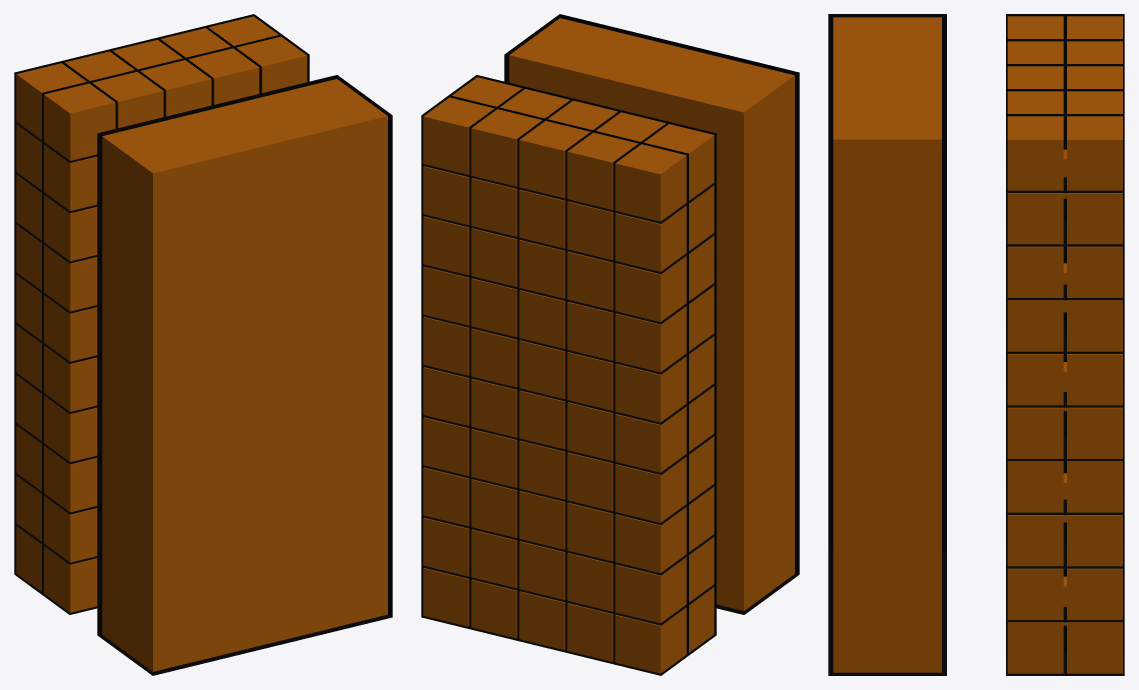
The model's file is Door.fbx.
3 renders of one model, left to right at view 1: azimuth 30°, elevation 25°; view 2: azimuth 150°, elevation 25°; view 3: azimuth 270°, elevation 25°, orthographic. The views are drawn at different scales.
Parts seen in each view (by area): view 1: polySurface311, polySurface312, polySurface273, polySurface93, polySurface201, polySurface40, polySurface68, polySurface88, polySurface132, polySurface268, polySurface176, polySurface181 (+19 smaller); view 2: polySurface311, polySurface283, polySurface312, polySurface57, polySurface77, polySurface153, polySurface234, polySurface192, polySurface212, polySurface48, polySurface104, polySurface257 (+55 smaller); view 3: polySurface311, polySurface312, polySurface289, polySurface278, polySurface31, polySurface109, polySurface254, polySurface52, polySurface72, polySurface144, polySurface172, polySurface197 (+20 smaller).
Boxes of the visible parts, x1=… form: polySurface311: x1=102, y1=79, x2=387, y2=671; polySurface312: x1=97, y1=75, x2=392, y2=675; polySurface273: x1=44, y1=83, x2=115, y2=160; polySurface93: x1=44, y1=396, x2=97, y2=461; polySurface201: x1=44, y1=245, x2=97, y2=311; polySurface40: x1=44, y1=546, x2=97, y2=612; polySurface68: x1=44, y1=496, x2=97, y2=562; polySurface88: x1=44, y1=446, x2=97, y2=512; polySurface132: x1=44, y1=345, x2=97, y2=411; polySurface268: x1=44, y1=295, x2=97, y2=361; polySurface176: x1=44, y1=145, x2=97, y2=210; polySurface181: x1=44, y1=195, x2=97, y2=261; polySurface311: x1=509, y1=18, x2=794, y2=610; polySurface283: x1=615, y1=144, x2=686, y2=221; polySurface312: x1=504, y1=14, x2=799, y2=614; polySurface57: x1=615, y1=557, x2=686, y2=623; polySurface77: x1=615, y1=507, x2=686, y2=572; polySurface153: x1=615, y1=406, x2=686, y2=472; polySurface234: x1=615, y1=206, x2=686, y2=271; polySurface192: x1=615, y1=256, x2=686, y2=321; polySurface212: x1=615, y1=306, x2=686, y2=372; polySurface48: x1=615, y1=607, x2=686, y2=673; polySurface104: x1=615, y1=457, x2=686, y2=522; polySurface257: x1=615, y1=356, x2=686, y2=422; polySurface311: x1=833, y1=17, x2=941, y2=672; polySurface312: x1=828, y1=14, x2=946, y2=675; polySurface289: x1=1007, y1=116, x2=1063, y2=190; polySurface278: x1=1067, y1=116, x2=1122, y2=190; polySurface31: x1=1007, y1=622, x2=1063, y2=673; polySurface109: x1=1007, y1=461, x2=1063, y2=512; polySurface254: x1=1007, y1=300, x2=1063, y2=351; polySurface52: x1=1007, y1=568, x2=1063, y2=619; polySurface72: x1=1007, y1=515, x2=1063, y2=566; polySurface144: x1=1007, y1=407, x2=1063, y2=458; polySurface172: x1=1007, y1=354, x2=1063, y2=405; polySurface197: x1=1007, y1=246, x2=1063, y2=297.
Size of the model in its own units: 5 by 10 by 5.
